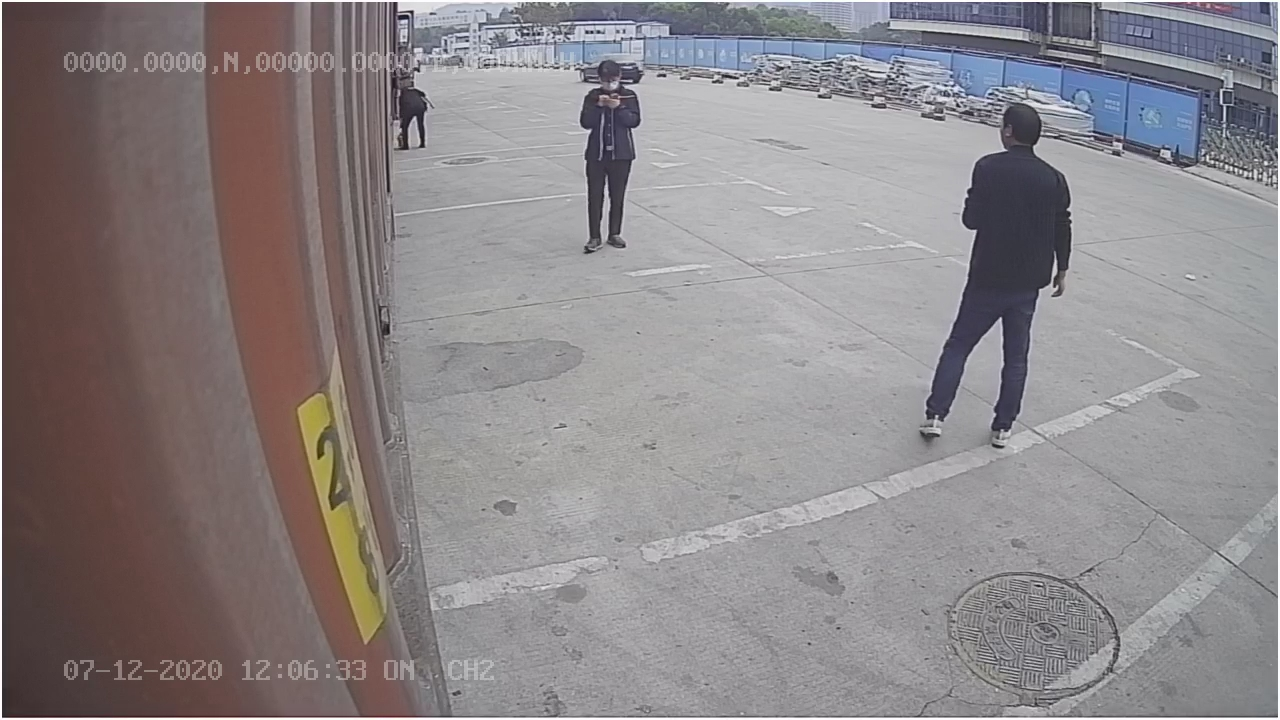person: (902, 98, 1082, 449)
